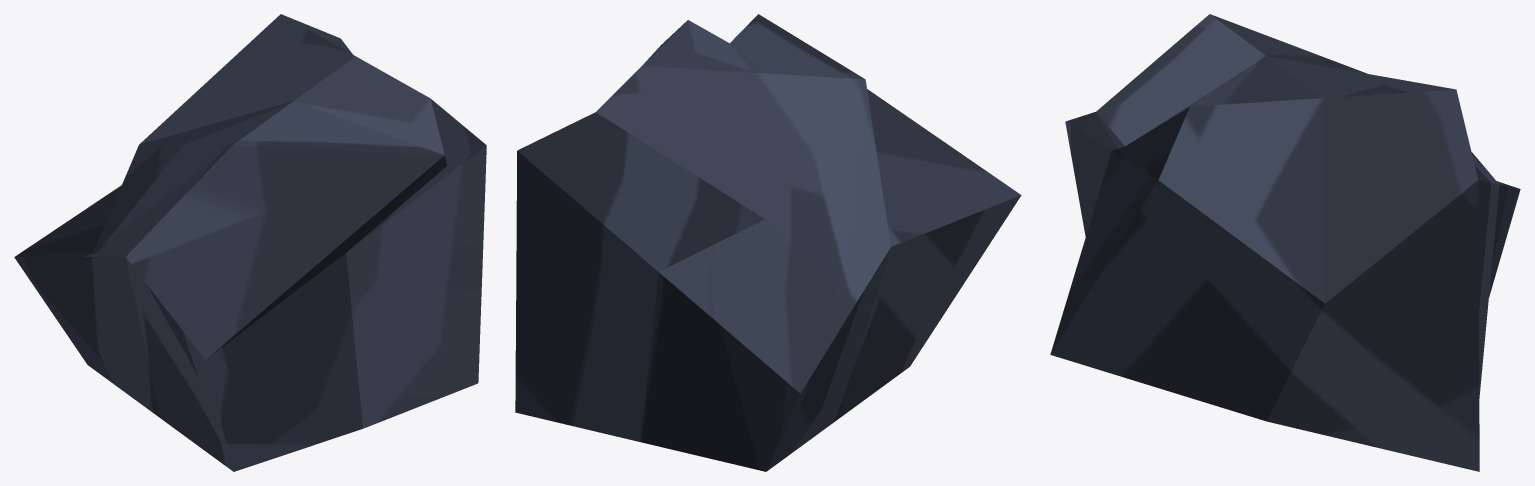
File: rock.glb
The picture shows the model from 3 angles, left to right: view 1: azimuth 30°, elevation 25°; view 2: azimuth 150°, elevation 25°; view 3: azimuth 270°, elevation 25°; orthographic projection. The views are drawn at different scales.
Visible parts, largest first — view 1: Cube; view 2: Cube; view 3: Cube.
Part boxes in pixels (bbox=[...]): Cube: bbox=[14, 14, 486, 471]; Cube: bbox=[515, 14, 1021, 471]; Cube: bbox=[1050, 14, 1520, 471].
Size of the model in its own units: 2.84 by 2.52 by 2.94.
1 material, 1 textured.
